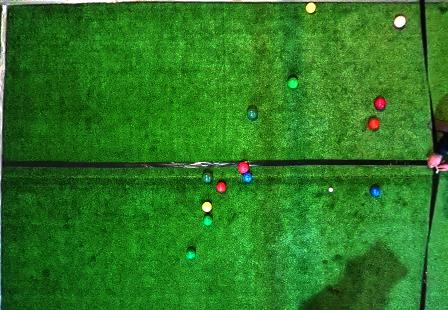blue: (369, 186, 380, 197), (242, 173, 253, 182)
green: (287, 77, 299, 90), (202, 172, 213, 184), (247, 109, 258, 120), (203, 216, 213, 226), (186, 249, 195, 260)
red: (374, 97, 386, 110), (394, 15, 406, 28), (367, 118, 379, 130), (238, 162, 249, 174), (216, 182, 227, 193)
vline: (419, 0, 447, 152), (419, 172, 447, 309), (0, 0, 11, 309)
white: (329, 187, 333, 192)
yellow: (306, 2, 316, 14), (202, 202, 212, 213)
